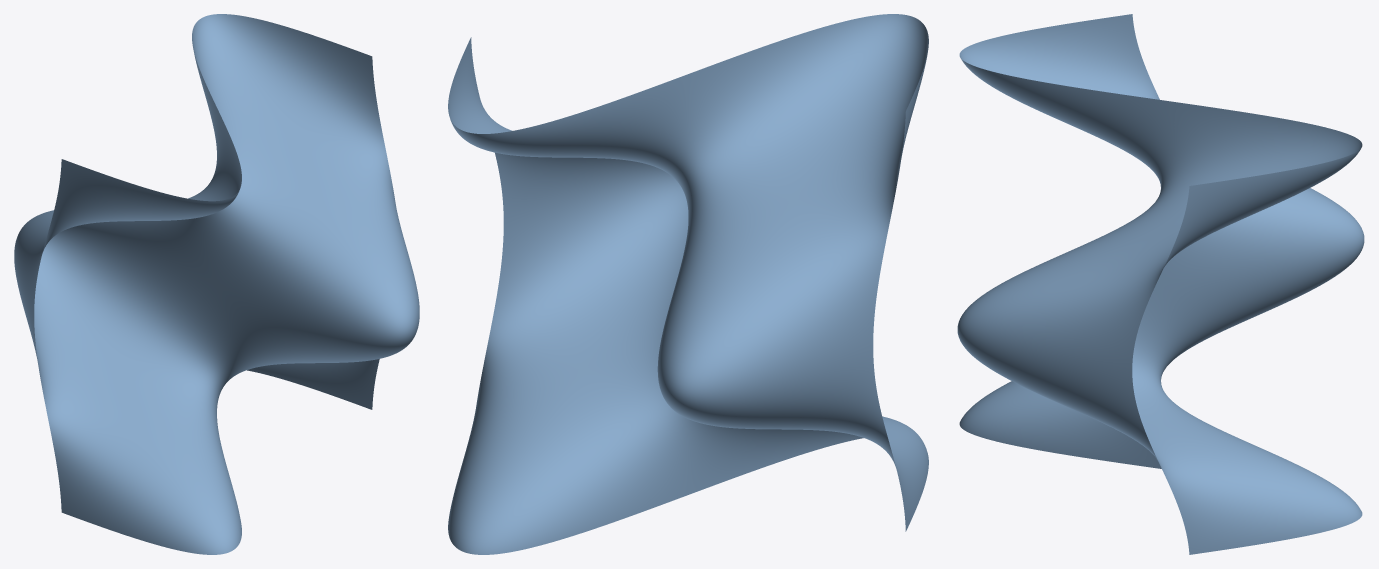
Rendered from wave.obj.
The picture shows the model from 3 angles, left to right: view 1: azimuth 30°, elevation 25°; view 2: azimuth 150°, elevation 25°; view 3: azimuth 270°, elevation 25°; orthographic projection. The views are drawn at different scales.
Visible parts, largest first — view 1: wave; view 2: wave; view 3: wave.
Boxes of the visible parts, x1,y1,x2,y2 form: wave: (14, 14, 419, 554); wave: (448, 14, 928, 554); wave: (957, 14, 1364, 554).
Size of the model in its own units: 2 by 2 by 2.
